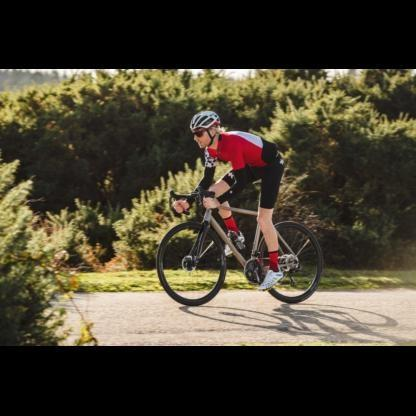Bicycle: (147, 177, 344, 328)
